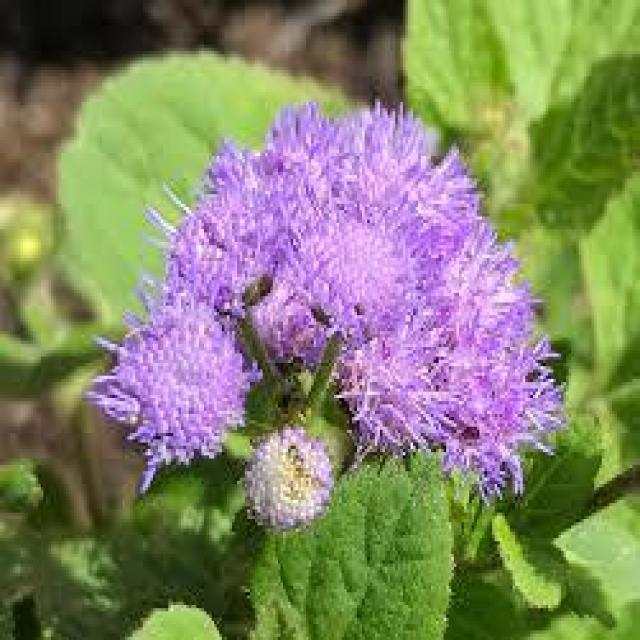organic waste: (92, 107, 576, 527)
